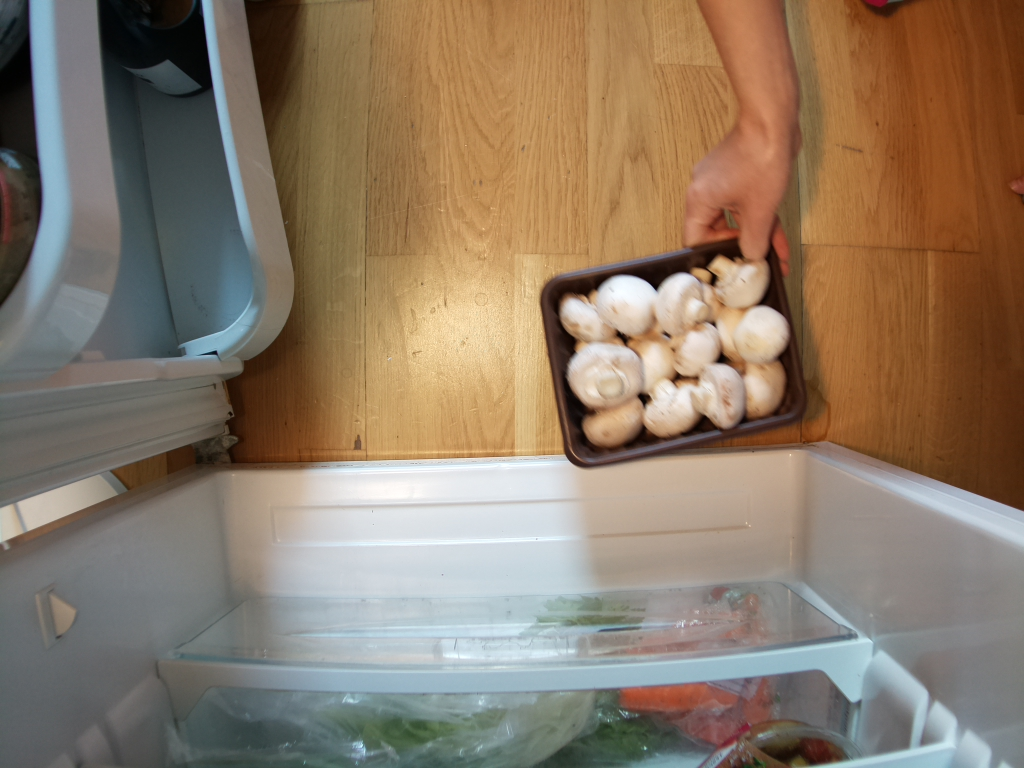mushrooms: (536, 221, 818, 470)
